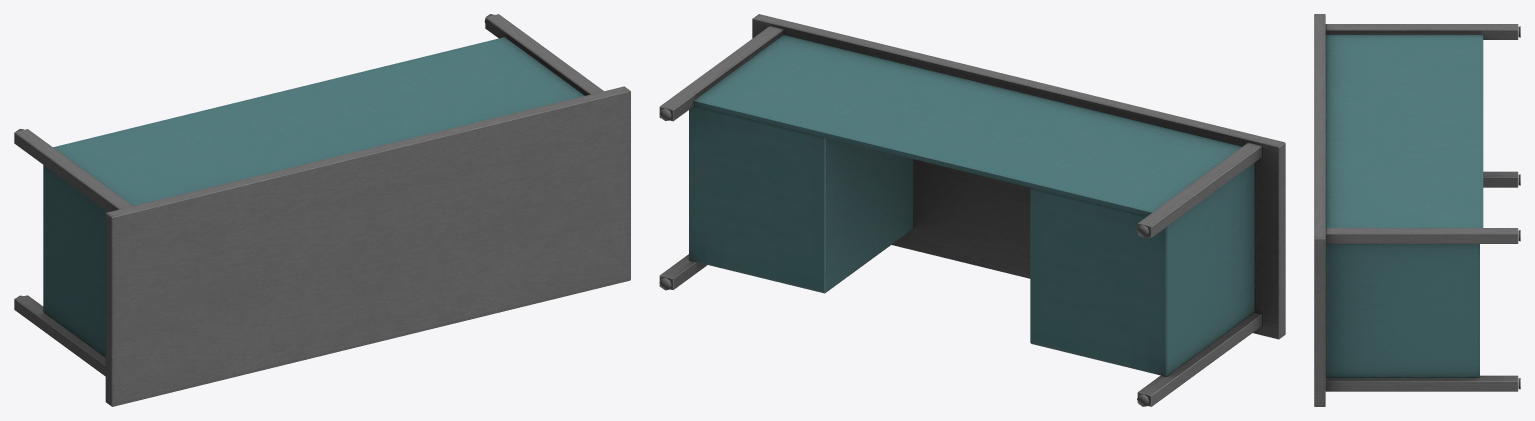
The model's file is nt_2020_desk_LOD0.obj.
3 renders of one model, left to right at view 1: azimuth 30°, elevation 25°; view 2: azimuth 150°, elevation 25°; view 3: azimuth 270°, elevation 25°, orthographic. The views are drawn at different scales.
Parts seen in each view (by area): view 1: mtl_nt_2020_desk; view 2: mtl_nt_2020_desk; view 3: mtl_nt_2020_desk.
Boxes of the visible parts, <box> form: mtl_nt_2020_desk: <box>14,14,630,406</box>; mtl_nt_2020_desk: <box>659,14,1285,406</box>; mtl_nt_2020_desk: <box>1314,14,1520,406</box>.
Bounding box in the file's own units: 232 × 81.28 × 90.25.
